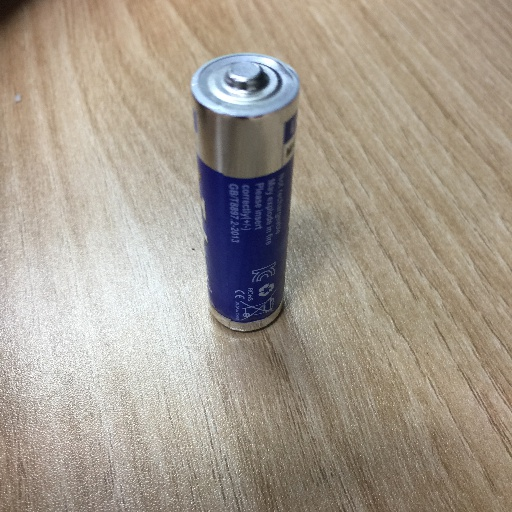Battery_0: (185, 41, 311, 352)
